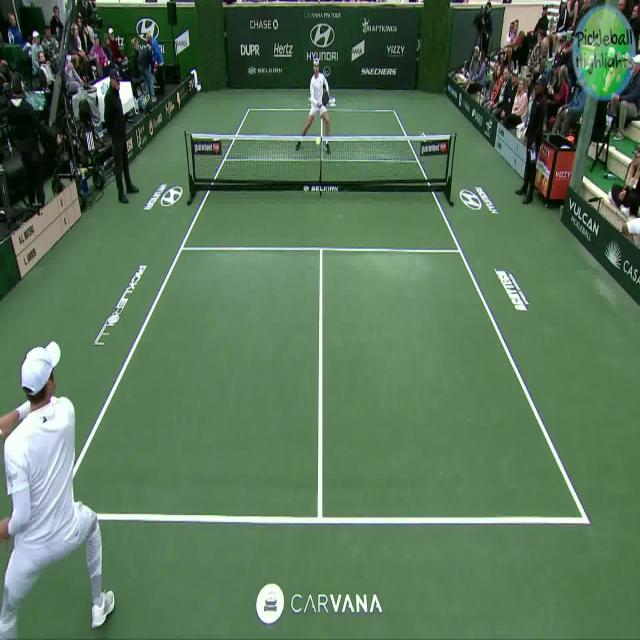ball: (316, 136, 322, 146)
